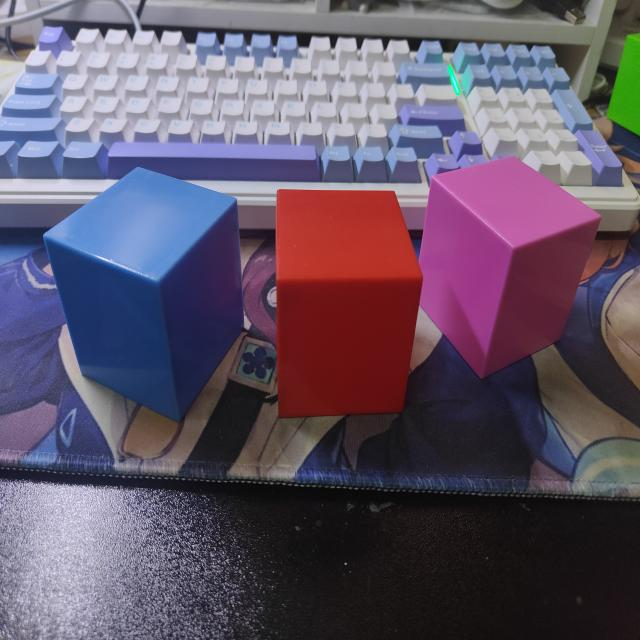blue: (42, 169, 245, 432)
pink: (418, 158, 602, 381)
red: (275, 187, 422, 421)
